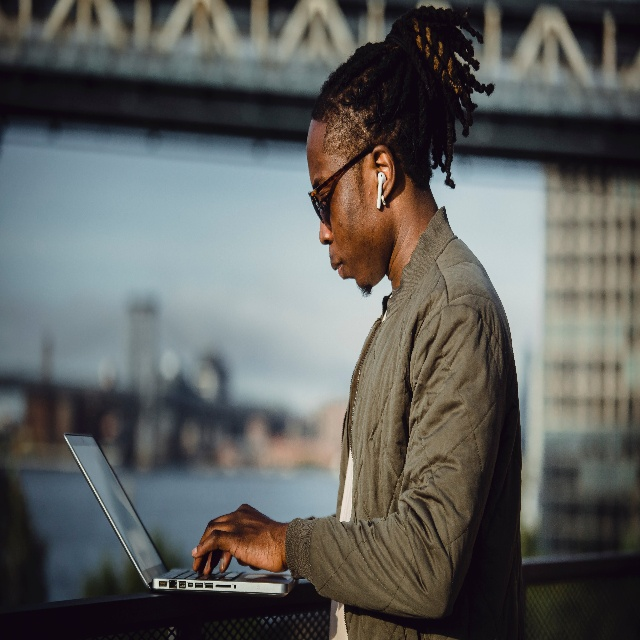Sin_guantes: (193, 499, 285, 580)
